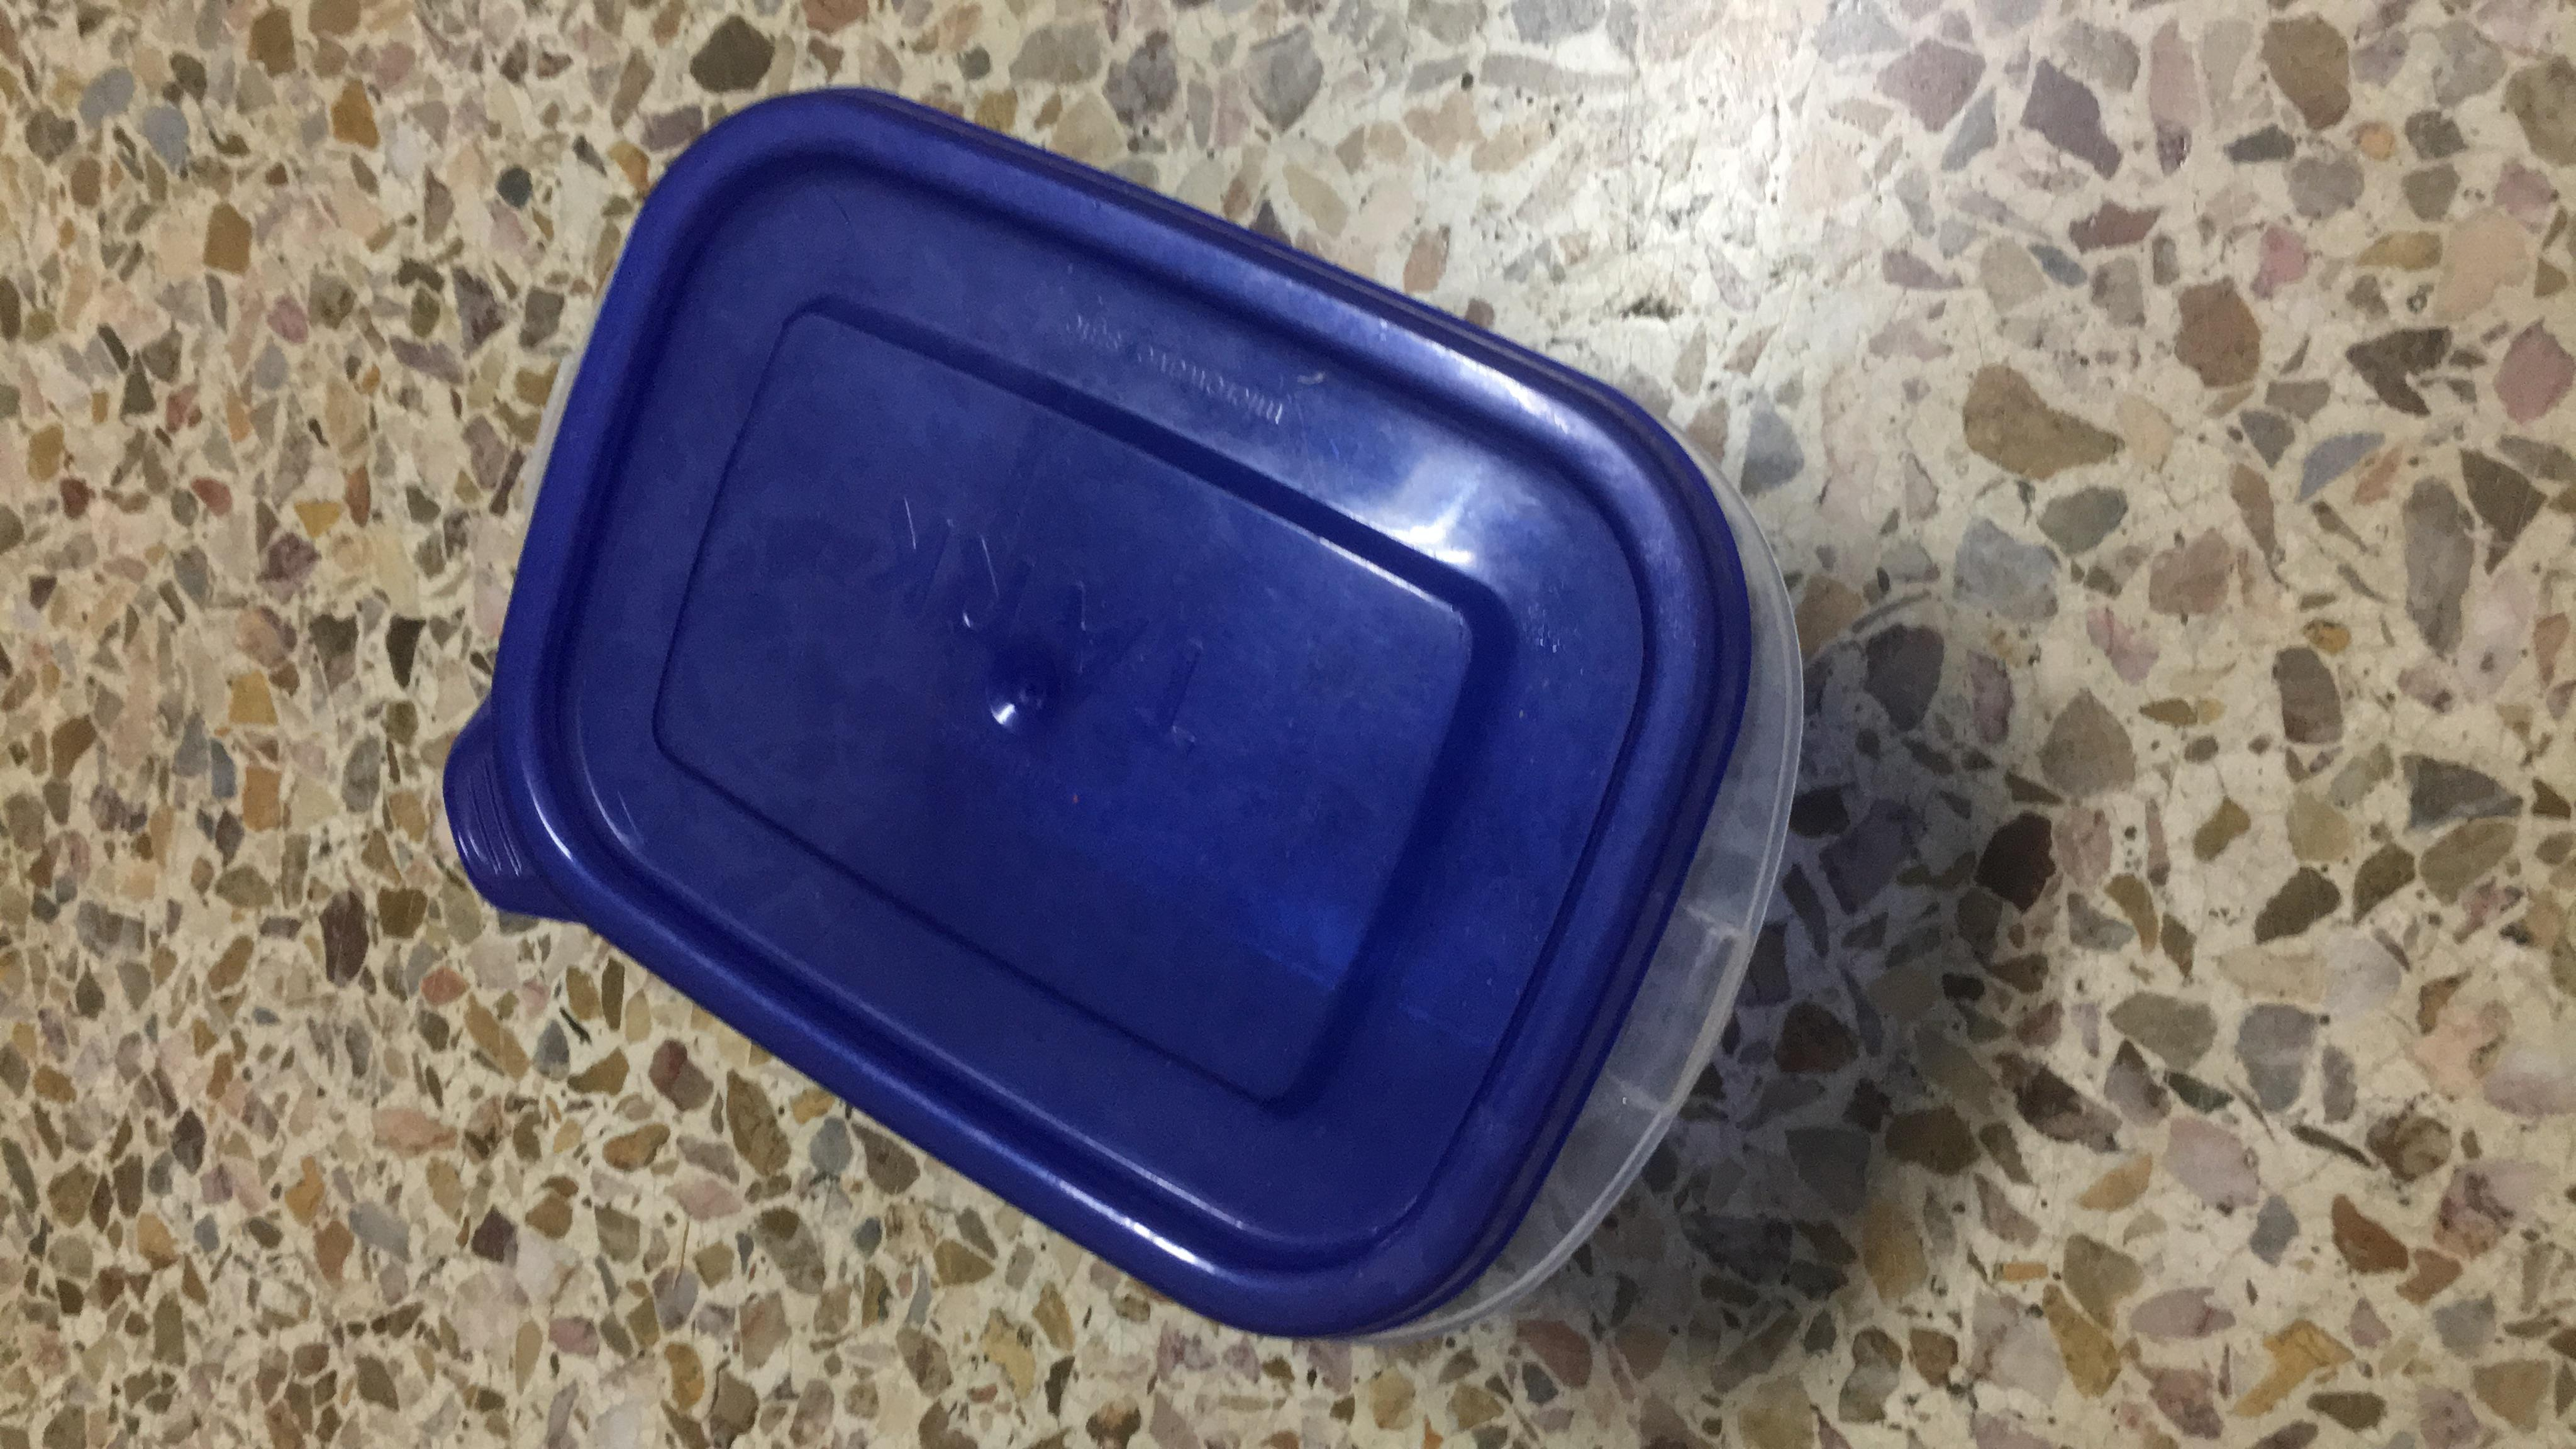bottle: (1258, 228, 1387, 1021)
